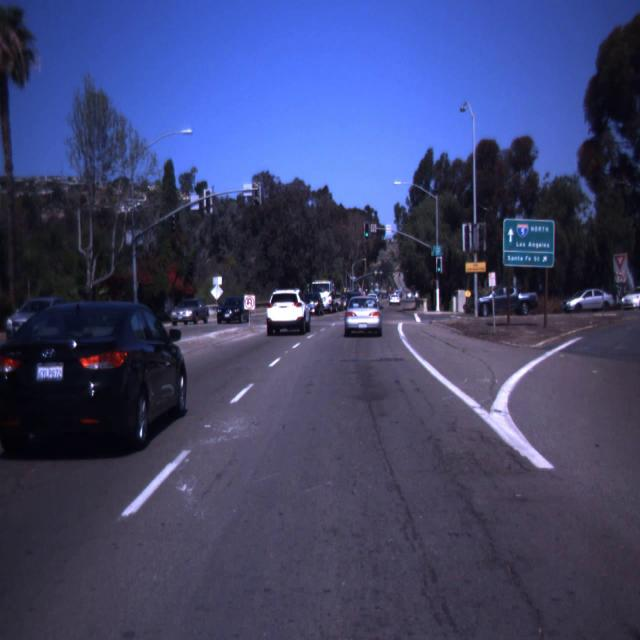go: (436, 259, 442, 272), (364, 224, 370, 237)
go traffic light: (436, 259, 442, 272), (364, 224, 370, 237)
